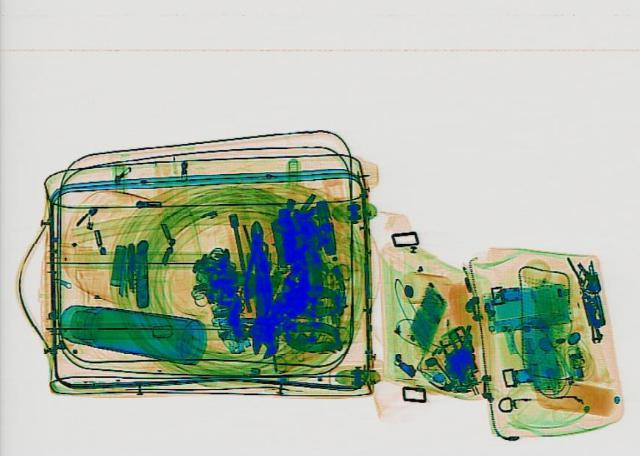Pliers: (236, 219, 270, 311)
